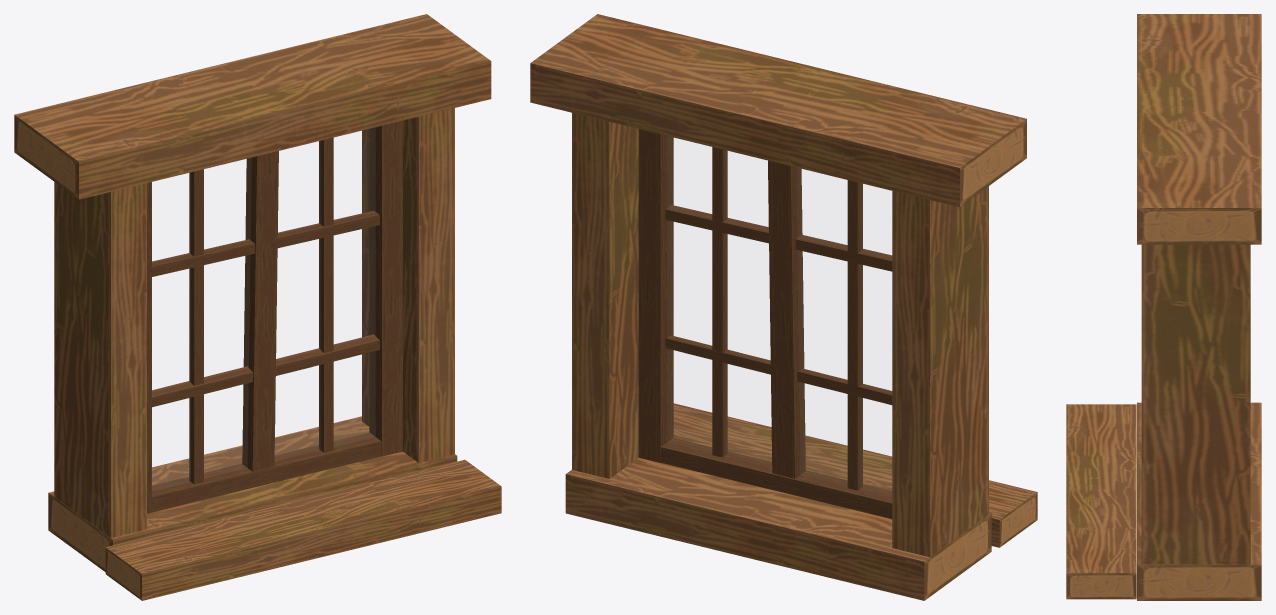
Rendered from Window_Wide_Flat1.gltf.
3 views of the same model, side by side, from view 1: azimuth 30°, elevation 25°; view 2: azimuth 150°, elevation 25°; view 3: azimuth 270°, elevation 25° (orthographic). The views are drawn at different scales.
Visible parts, largest first — view 1: Window_Wide_Flat1; view 2: Window_Wide_Flat1; view 3: Window_Wide_Flat1.
Boxes of the visible parts, x1,y1,x2,y2 form: Window_Wide_Flat1: [14, 14, 501, 600]; Window_Wide_Flat1: [530, 14, 1037, 600]; Window_Wide_Flat1: [1066, 14, 1261, 600].
Bounding box in the file's own units: 1.61 × 1.58 × 0.6834.
Materials: 2 (1 with a texture image).
